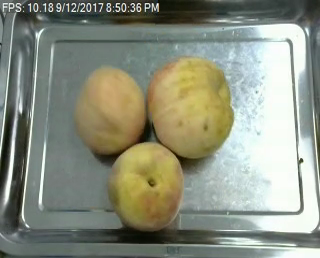Peach: (147, 55, 234, 159), (108, 142, 184, 230), (74, 66, 145, 155)
